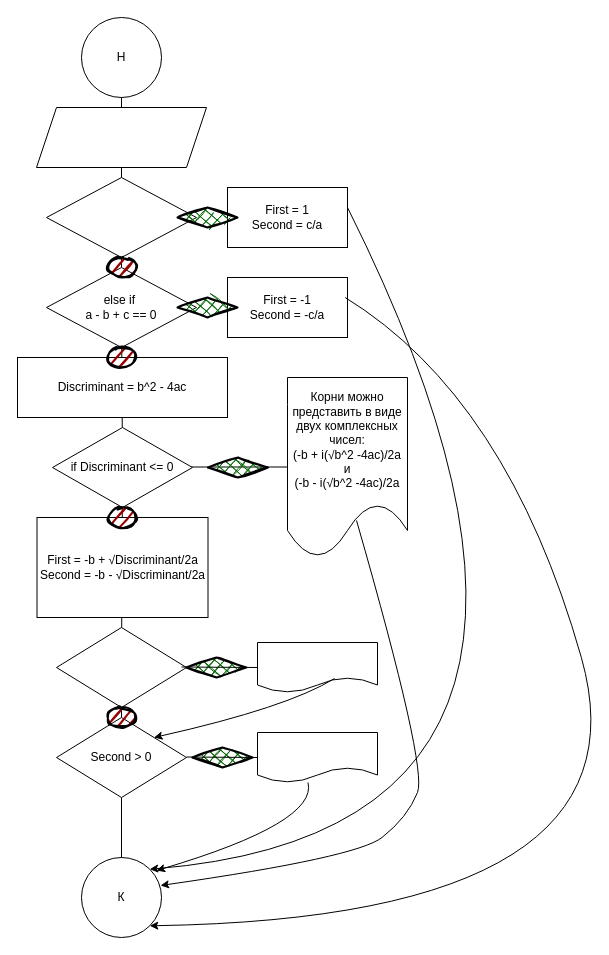
Image size: 609x955. Some labels were removed from this diagram. The shapes that lost their labels are listed below. From the top down, each one's centre as x and y in pixels, then its label:
At point (121, 137): "a,b,c".
At point (121, 217): "if a + b + c == 0".
At point (121, 667): "First > 0".
At point (317, 667): "Первый корень = First".
At point (317, 757): "Второй корень = Second".
